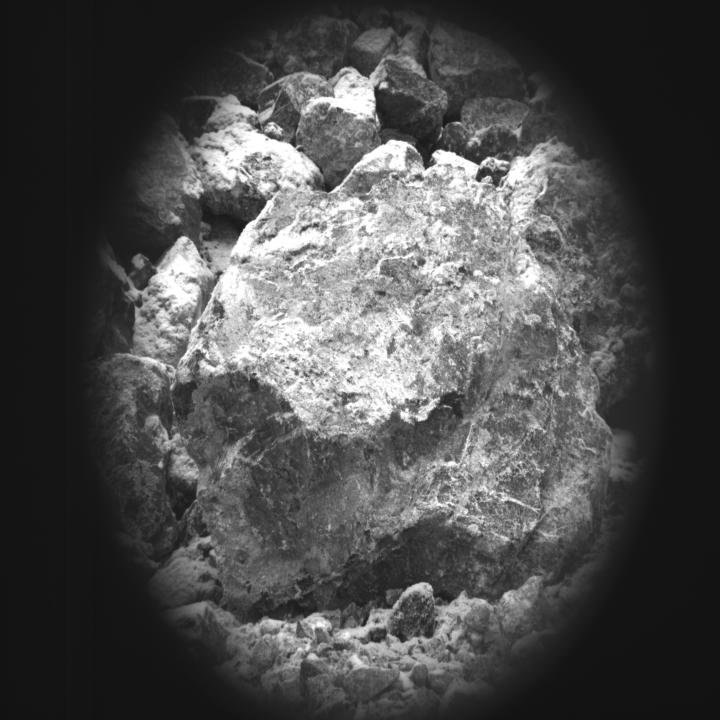stone: (169, 139, 618, 624), (187, 123, 326, 220), (370, 58, 448, 142)
